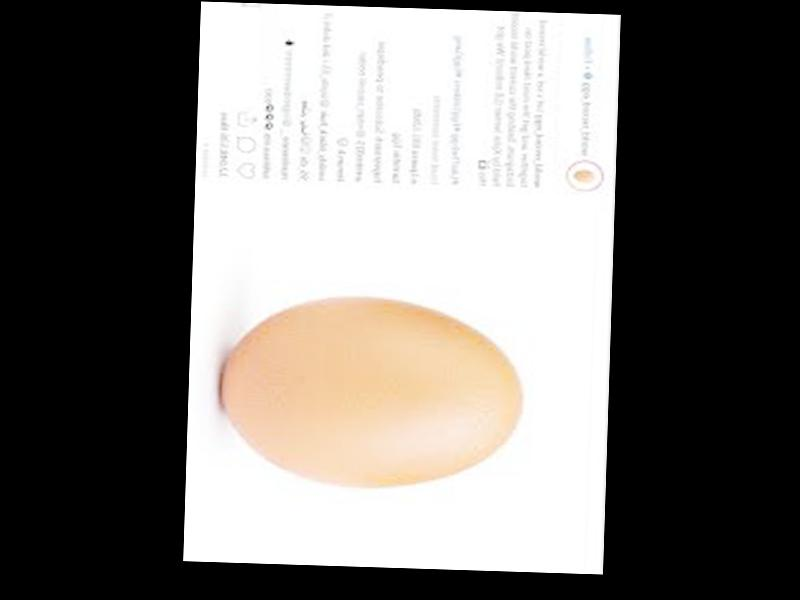Eggs: (220, 293, 525, 494)
